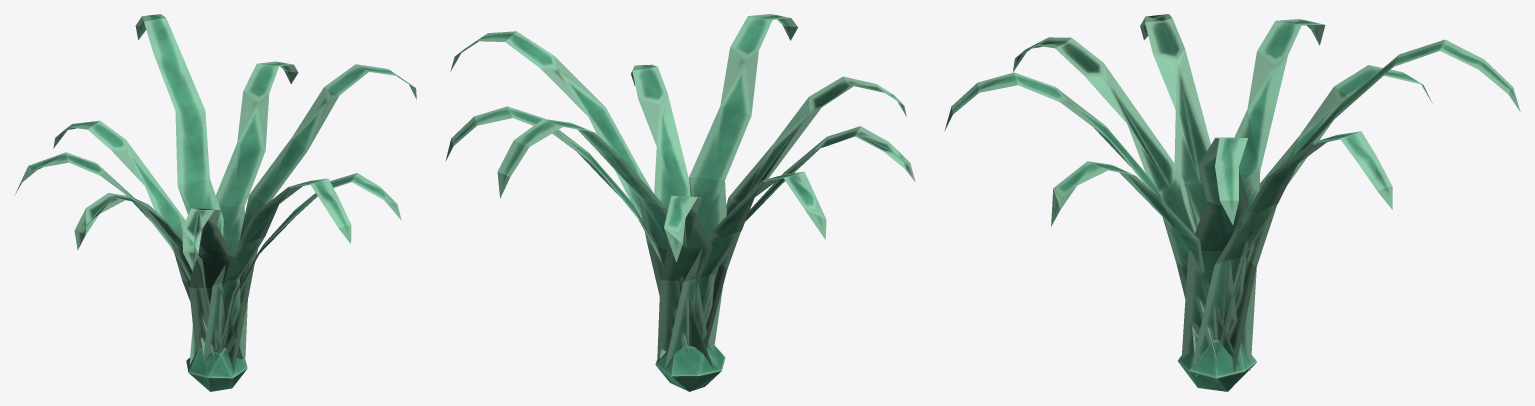
Rendered from underworld-flora-fungal-fern.glb.
3 views of the same model, side by side, from view 1: azimuth 30°, elevation 25°; view 2: azimuth 150°, elevation 25°; view 3: azimuth 270°, elevation 25° (orthographic). The views are drawn at different scales.
Parts seen in each view (by area): view 1: fronds, crown; view 2: fronds, crown; view 3: fronds, crown.
Boxes of the visible parts, x1,y1,x2,y2 form: fronds: (15,14,416,373); crown: (186,347,247,391); fronds: (445,14,915,374); crown: (655,345,725,391); fronds: (944,14,1520,377); crown: (1178,340,1257,391).
Bounding box in the file's own units: 1.25 × 0.9301 × 1.35.
1 material, 1 textured.
